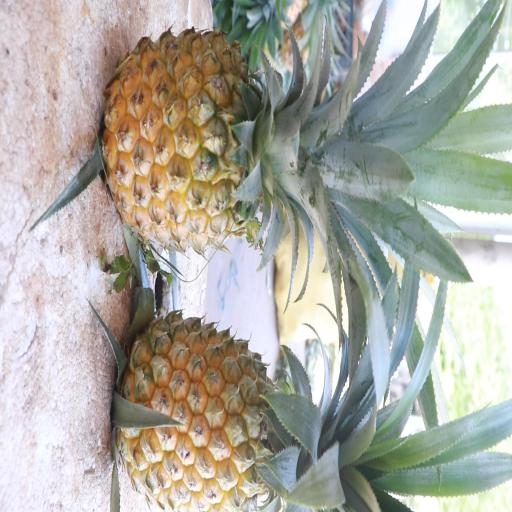Pineapple - v8 v1: (100, 21, 338, 259), (114, 304, 353, 510)
